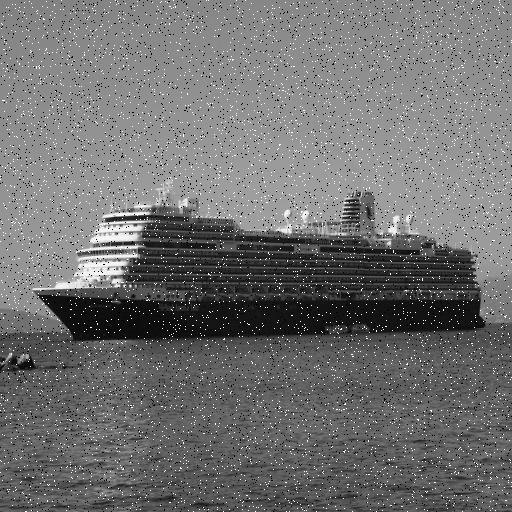cruises: (29, 171, 488, 345)
